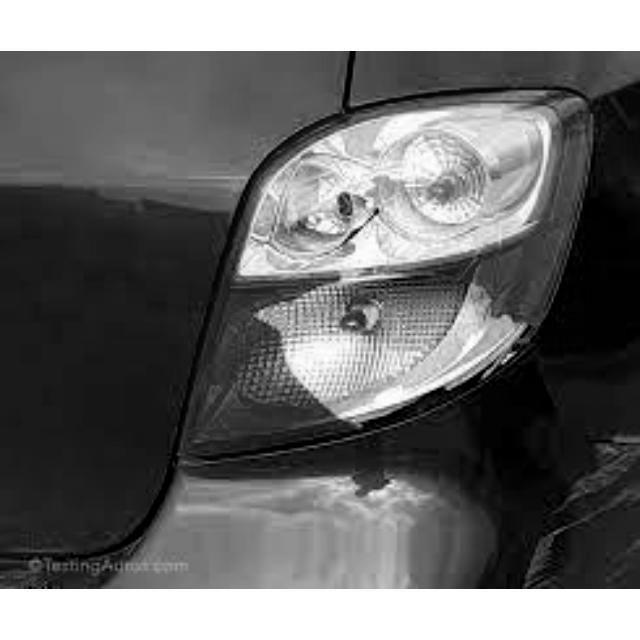Taillight-Damage: (186, 64, 572, 492)
